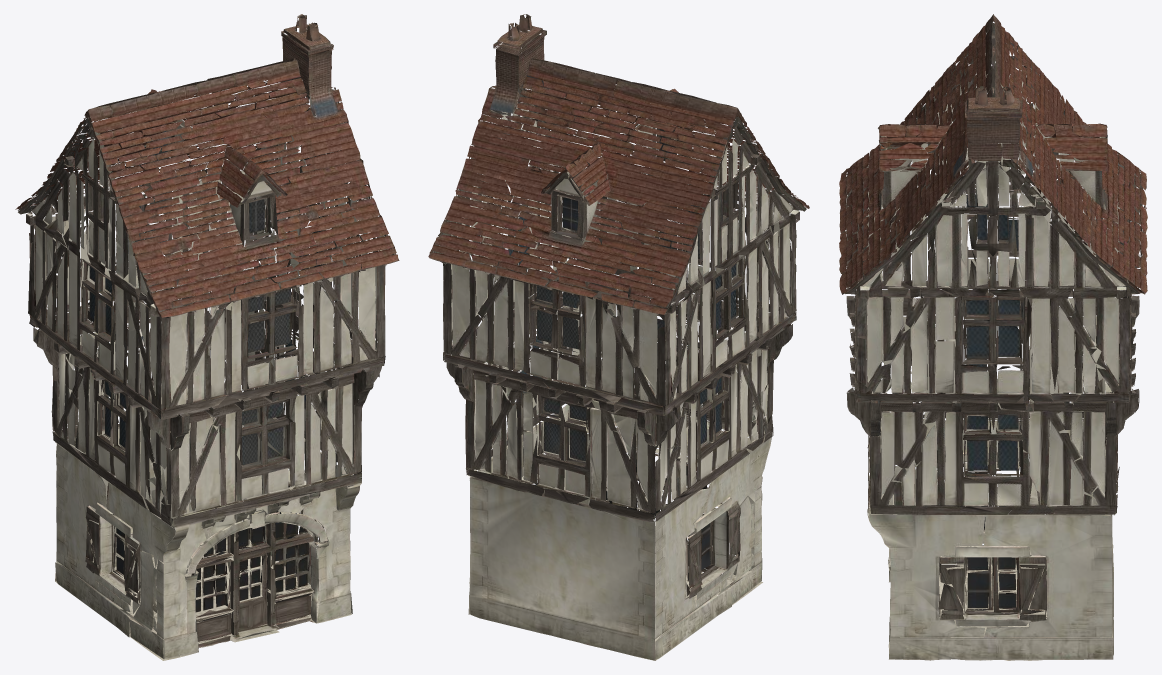
File: maison_pierre.glb
3 views of the same model, side by side, from view 1: azimuth 30°, elevation 25°; view 2: azimuth 150°, elevation 25°; view 3: azimuth 270°, elevation 25° (orthographic). The views are drawn at different scales.
Parts seen in each view (by area): view 1: maison_pierre; view 2: maison_pierre; view 3: maison_pierre.
Boxes of the visible parts, x1,y1,x2,y2 form: maison_pierre: (15, 14, 399, 660); maison_pierre: (428, 14, 809, 660); maison_pierre: (839, 14, 1147, 660).
Bounding box in the file's own units: 7.23 × 16.02 × 7.78.
1 material, 1 textured.
